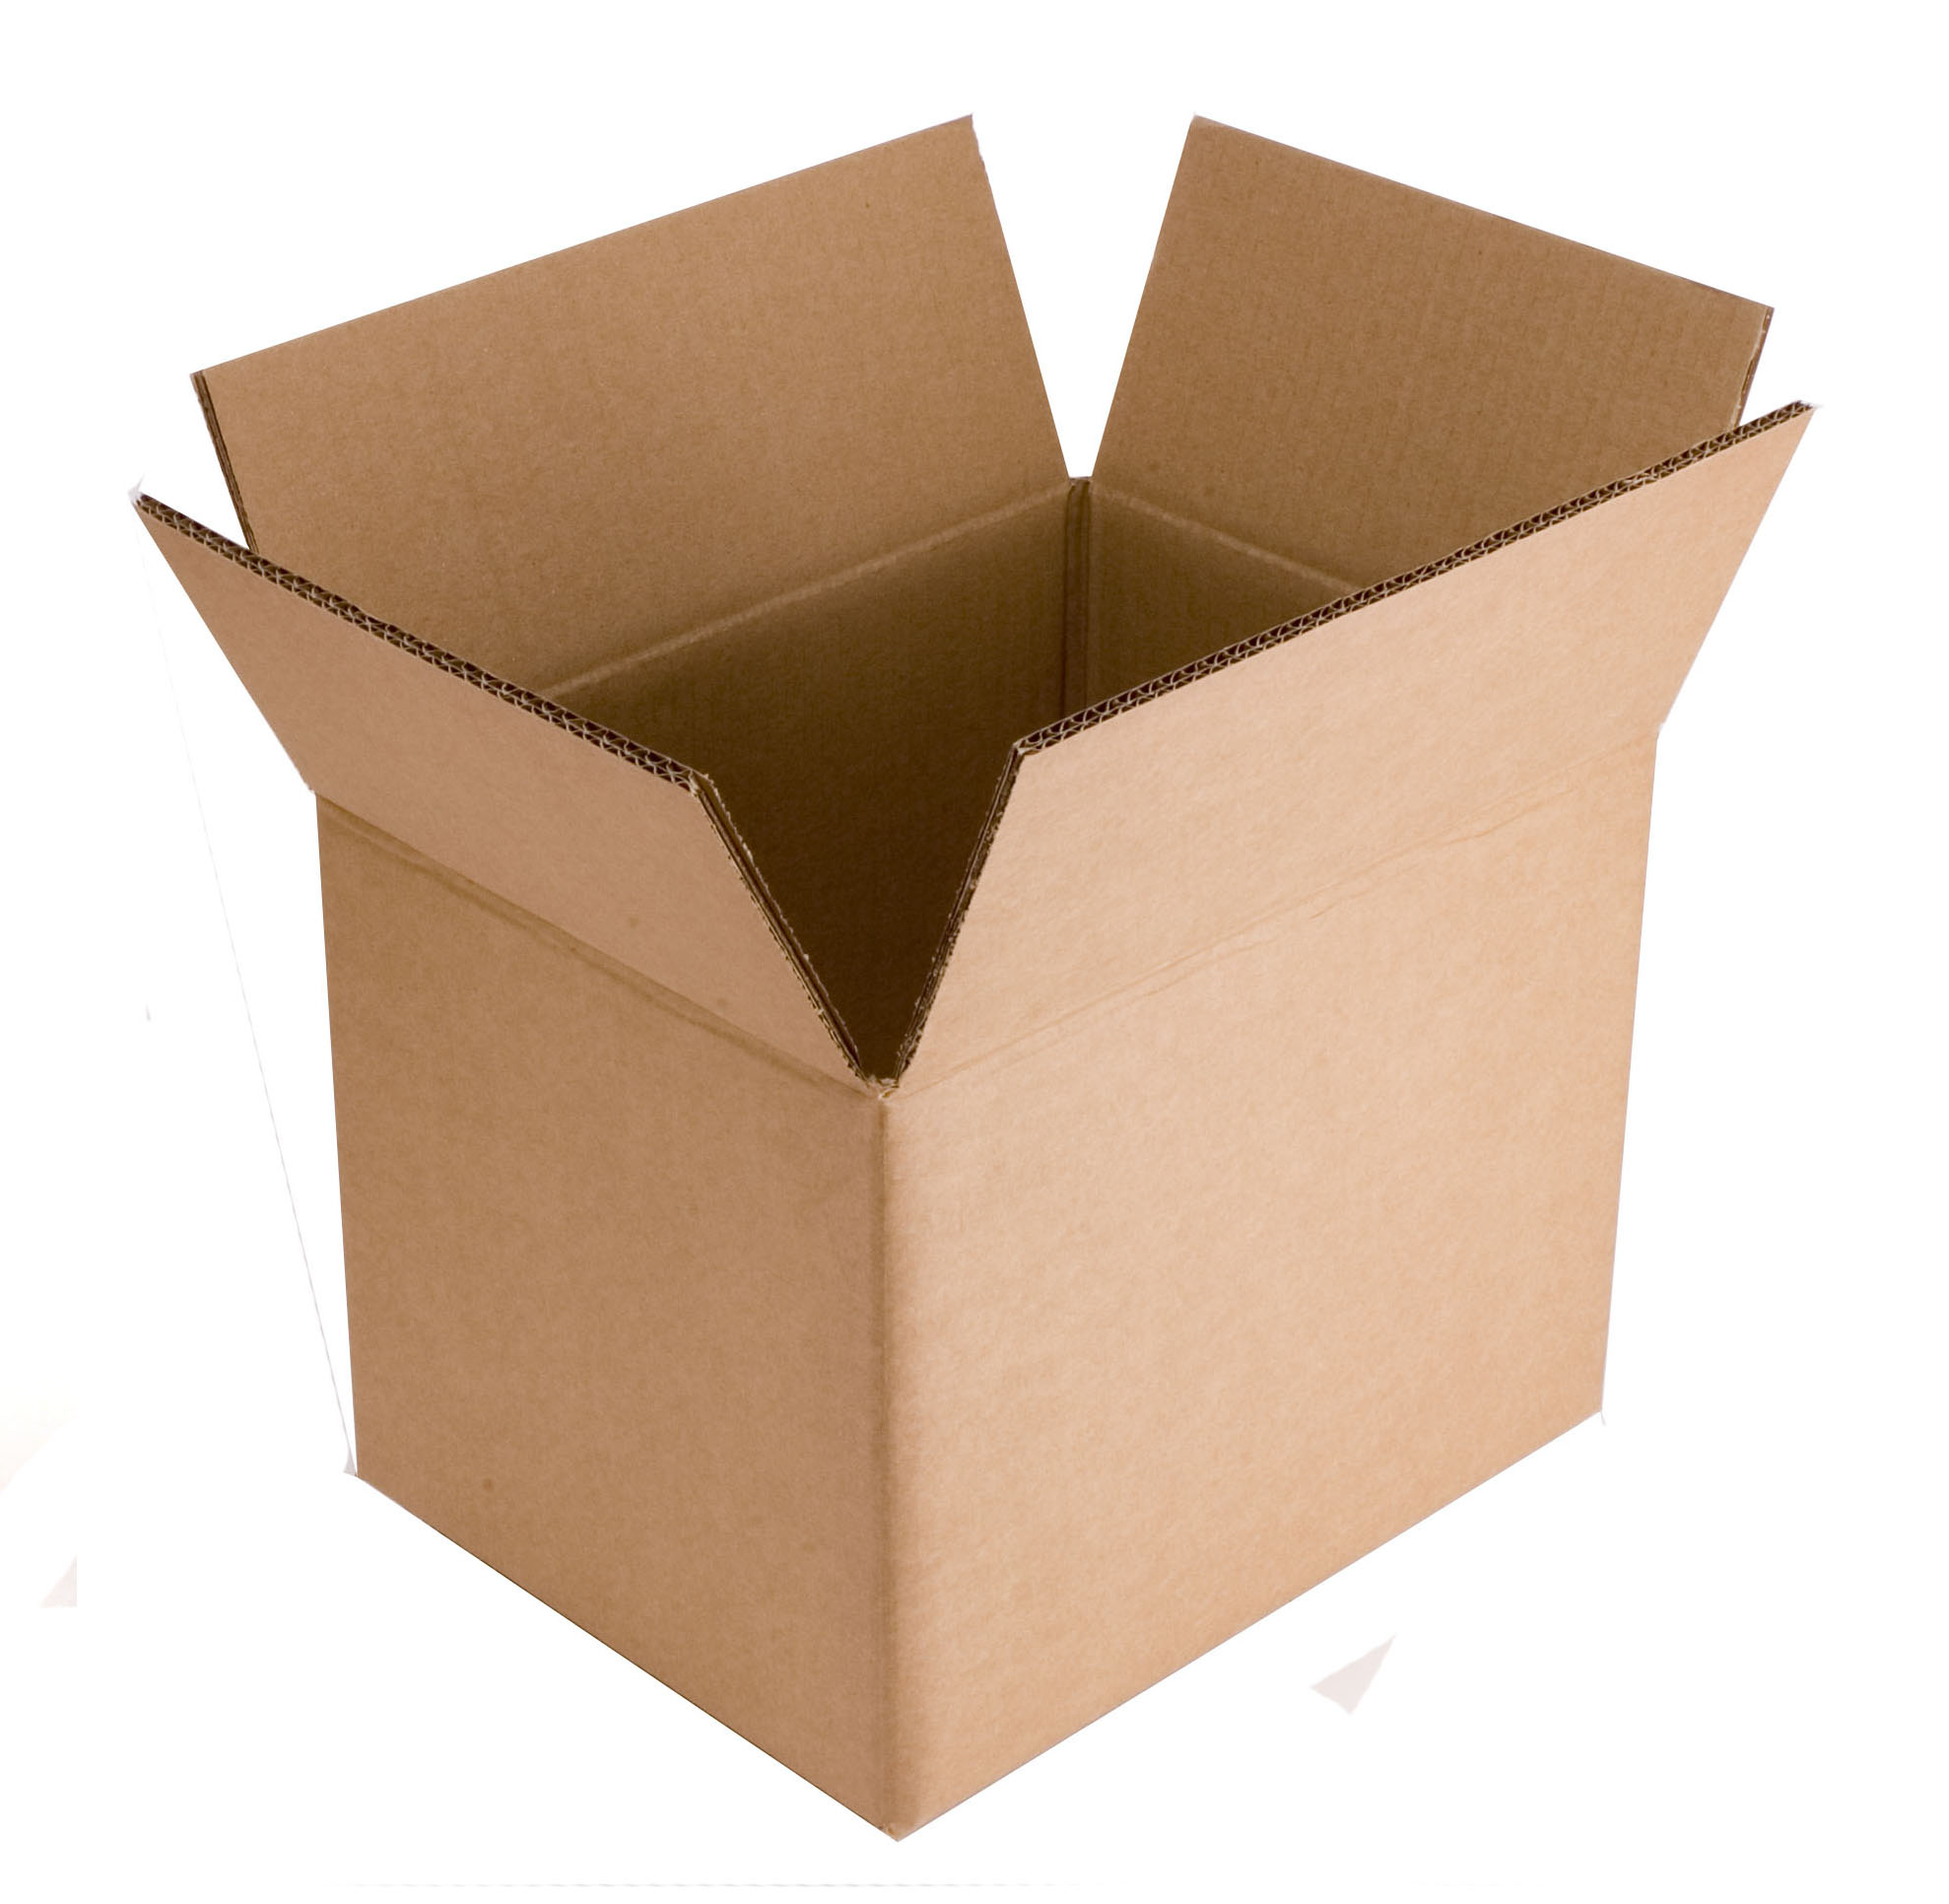Rec_Paper: (119, 21, 1841, 1817)
